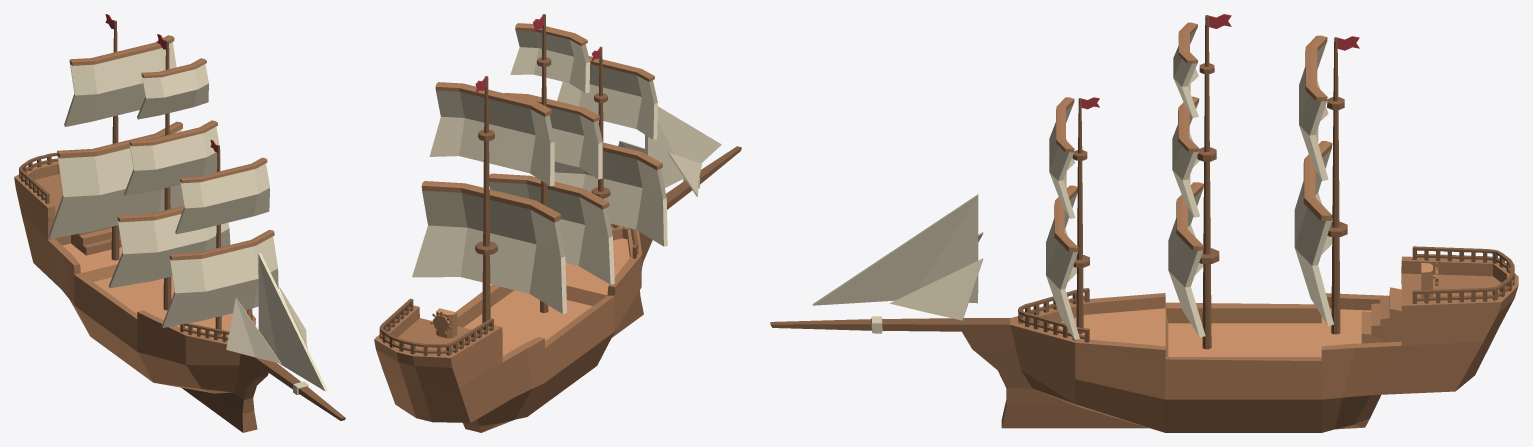
The model's file is segelskepp.glb.
The picture shows the model from 3 angles, left to right: view 1: azimuth 30°, elevation 25°; view 2: azimuth 150°, elevation 25°; view 3: azimuth 270°, elevation 25°; orthographic projection. The views are drawn at different scales.
Parts seen in each view (by area): view 1: BigShip, BackSail, MidleSail, Front Sail; view 2: BigShip, BackSail, MidleSail, Front Sail; view 3: BigShip, BackSail, MidleSail, Front Sail.
Part boxes in pixels (box(x1,y1,x2,y2)): BigShip: box(14, 14, 345, 432); BackSail: box(48, 35, 183, 238); MidleSail: box(109, 58, 230, 288); Front Sail: box(162, 157, 278, 327); BigShip: box(374, 14, 741, 432); BackSail: box(412, 82, 566, 313); MidleSail: box(489, 23, 614, 284); Front Sail: box(554, 56, 667, 246); BigShip: box(770, 14, 1518, 432); BackSail: box(1294, 35, 1333, 325); MidleSail: box(1168, 22, 1205, 337); Front Sail: box(1046, 97, 1079, 339).
Size of the model in its own units: 1.7 by 3.85 by 6.38.
